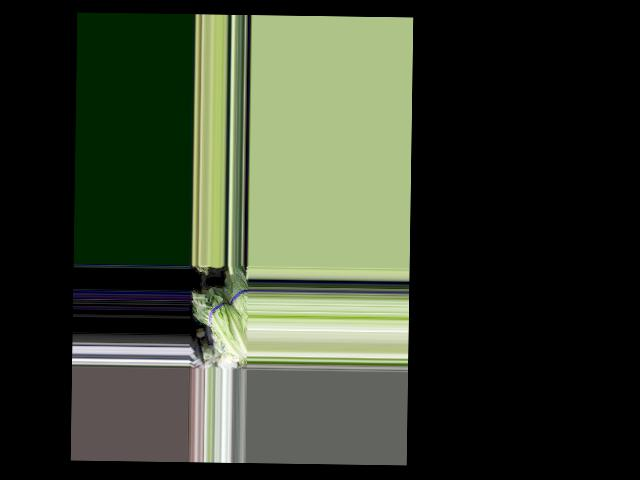lettuce: (195, 289, 248, 354)
